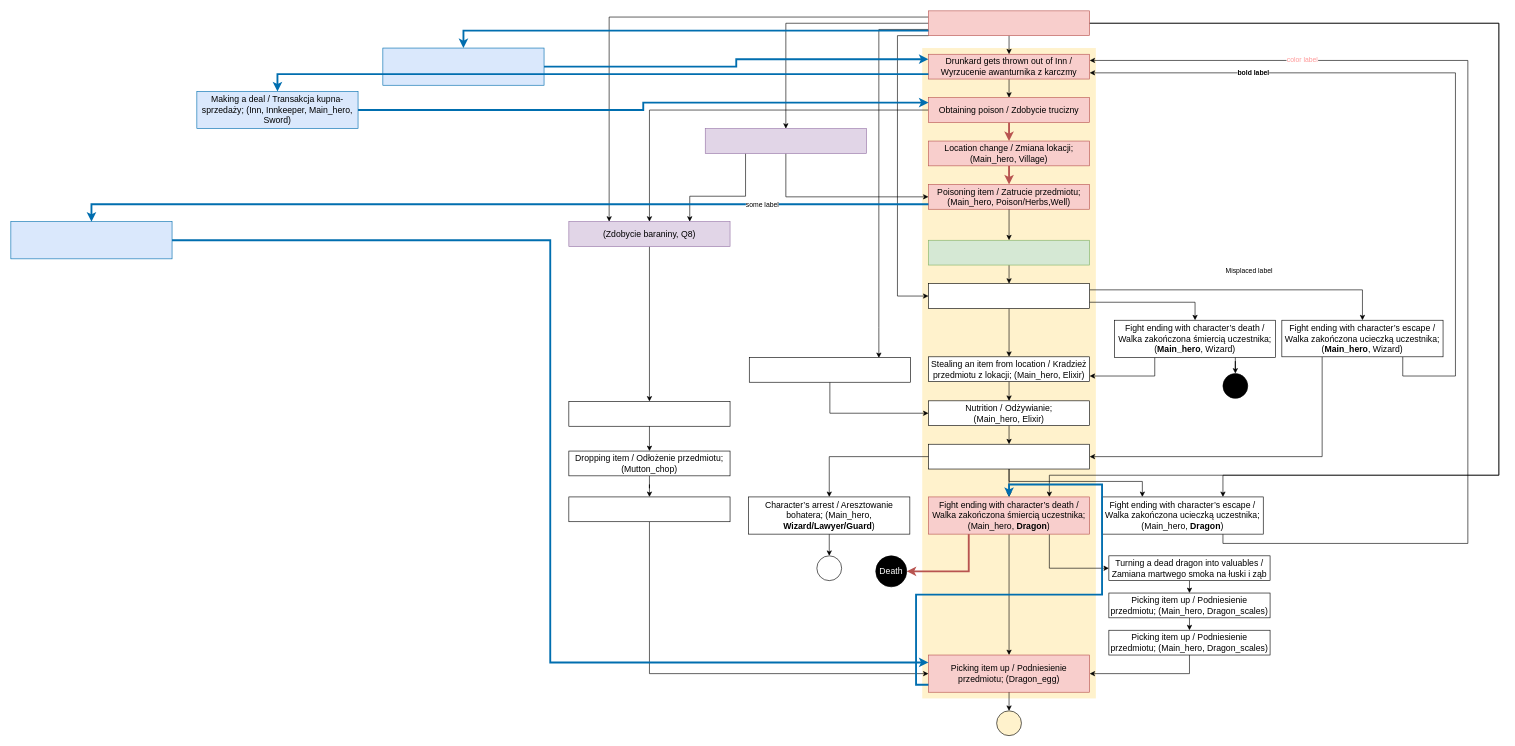
This 1515x746 diagram has some shape labels left out. Each missing label, with the box of its shape:
(Poznanie sekretu smoczego jaja, Q5): (928, 10, 1090, 36)
(Zdobycie trujących ziół, Q2): (705, 128, 866, 153)
Location change / Zmiana lokacji; (Forest, Main_hero, Dragons_lair): (10, 221, 172, 259)
Location change / Zmiana lokacji; (Main_hero, Dragon_lair): (928, 444, 1090, 469)
Location change / Zmiana lokacji; (Main_hero, Wizard_hut): (928, 283, 1090, 308)
Location change / Zmiana lokacji; (Road, Main_hero, Inn): (382, 47, 544, 85)
Making a deal / Transakcja kupna-sprzedaży; ( Main_hero , Wizard, Elixir ): (749, 357, 910, 382)
Nutrition with poison / Spożycie trucizny; (Dragon, Mutton_chop): (568, 496, 730, 522)
Poisoning item / Zatrucie przedmiotu; (Main_hero, Mutton_chop, Poison/Herbs): (568, 401, 730, 426)
Wizard receives a distress call / Bohater wzywa czarodzieja na pomoc: (928, 240, 1090, 265)
